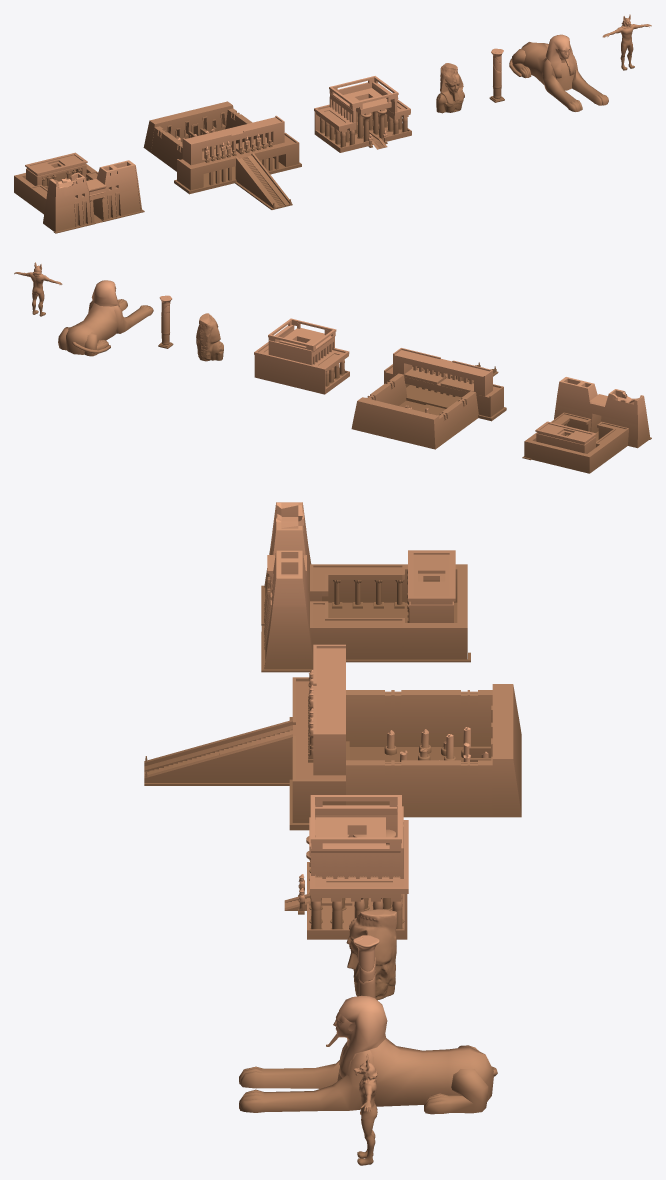
The model's file is buildings.fbx.
3 renders of one model, top to bottom at view 1: azimuth 30°, elevation 25°; view 2: azimuth 150°, elevation 25°; view 3: azimuth 270°, elevation 25°, orthographic. The views are drawn at different scales.
Visible parts, largest first — view 1: Cube.012, Plane.001, Cube, Sphinx, Colossal_Bust_Rameses_II, anubistextures:body1, Column_D01; view 2: Cube.012, Plane.001, Cube, Sphinx, Colossal_Bust_Rameses_II, anubistextures:body1, Column_D01; view 3: Cube.012, Plane.001, Sphinx, Cube, Colossal_Bust_Rameses_II, anubistextures:body1, Column_D01.
Part boxes in pixels (box(x1,y1,x2,y2)): Cube.012: box(143, 101, 301, 209); Plane.001: box(14, 152, 144, 233); Cube: box(314, 76, 411, 152); Sphinx: box(509, 34, 608, 111); Colossal_Bust_Rameses_II: box(436, 63, 464, 113); anubistextures:body1: box(602, 14, 651, 70); Column_D01: box(489, 48, 504, 102); Cube.012: box(351, 348, 506, 449); Plane.001: box(522, 377, 651, 473); Cube: box(254, 318, 349, 394); Sphinx: box(58, 280, 153, 356); Colossal_Bust_Rameses_II: box(196, 313, 223, 361); anubistextures:body1: box(14, 262, 62, 316); Column_D01: box(158, 295, 173, 348); Cube.012: box(144, 644, 521, 830); Plane.001: box(261, 502, 470, 672); Sphinx: box(239, 995, 497, 1114); Cube: box(284, 795, 408, 939); Colossal_Bust_Rameses_II: box(346, 909, 396, 1000); anubistextures:body1: box(353, 1053, 377, 1165); Column_D01: box(353, 935, 379, 998).
Bounding box in the file's own units: 77.84 × 6.38 × 20.83.
Materials: 1 (1 with a texture image).
